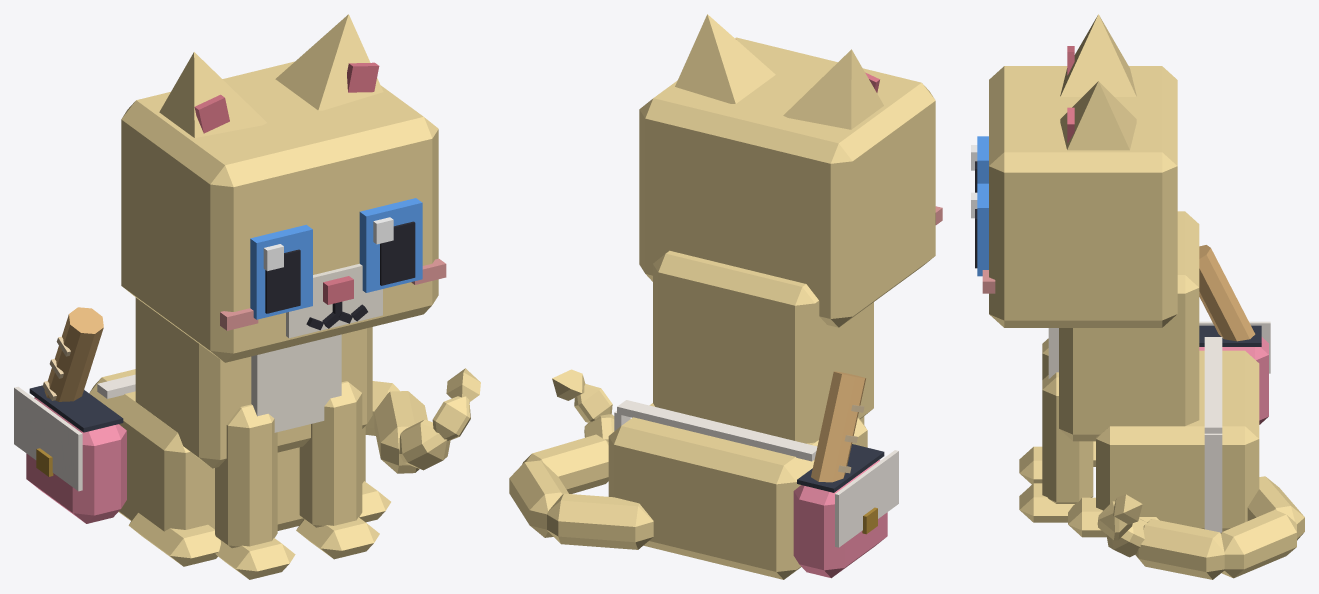
Rendered from CatCafe_Cat_Butter_Sit.fbx.
3 renders of one model, left to right at view 1: azimuth 30°, elevation 25°; view 2: azimuth 150°, elevation 25°; view 3: azimuth 270°, elevation 25°, orthographic. The views are drawn at different scales.
Visible parts, largest first — view 1: CatCafe_Cat_Butter_Sit_Head, CatCafe_Cat_Butter_Sit_Body, CatCafe_Cat_Butter_Sit_LegF2, CatCafe_Cat_Butter_Sit_LegF1, CatCafe_Cat_Butter_Sit_Tail, CatCafe_Cat_Butter_Sit_EarL, CatCafe_Cat_Butter_Sit_Eye1, CatCafe_Cat_Butter_Sit_Eye2, CatCafe_Cat_Butter_Sit_EarR; view 2: CatCafe_Cat_Butter_Sit_Body, CatCafe_Cat_Butter_Sit_Head, CatCafe_Cat_Butter_Sit_Tail, CatCafe_Cat_Butter_Sit_EarL, CatCafe_Cat_Butter_Sit_EarR; view 3: CatCafe_Cat_Butter_Sit_Head, CatCafe_Cat_Butter_Sit_Body, CatCafe_Cat_Butter_Sit_Tail, CatCafe_Cat_Butter_Sit_LegF1, CatCafe_Cat_Butter_Sit_EarL, CatCafe_Cat_Butter_Sit_EarR, CatCafe_Cat_Butter_Sit_Eye1, CatCafe_Cat_Butter_Sit_LegF2, CatCafe_Cat_Butter_Sit_Eye2.
Part boxes in pixels (box(x1,y1,x2,y2)): CatCafe_Cat_Butter_Sit_Head: box(121, 61, 446, 362); CatCafe_Cat_Butter_Sit_Body: box(14, 297, 390, 566); CatCafe_Cat_Butter_Sit_LegF2: box(215, 404, 295, 579); CatCafe_Cat_Butter_Sit_LegF1: box(296, 381, 379, 559); CatCafe_Cat_Butter_Sit_Tail: box(365, 368, 480, 473); CatCafe_Cat_Butter_Sit_EarL: box(275, 14, 383, 110); CatCafe_Cat_Butter_Sit_Eye1: box(359, 198, 422, 292); CatCafe_Cat_Butter_Sit_Eye2: box(250, 224, 312, 319); CatCafe_Cat_Butter_Sit_EarR: box(159, 52, 266, 137); CatCafe_Cat_Butter_Sit_Body: box(608, 250, 898, 579); CatCafe_Cat_Butter_Sit_Head: box(639, 37, 942, 327); CatCafe_Cat_Butter_Sit_Tail: box(509, 369, 653, 549); CatCafe_Cat_Butter_Sit_EarL: box(675, 14, 775, 103); CatCafe_Cat_Butter_Sit_EarR: box(783, 49, 883, 129); CatCafe_Cat_Butter_Sit_Head: box(982, 66, 1177, 327); CatCafe_Cat_Butter_Sit_Body: box(1048, 211, 1270, 537); CatCafe_Cat_Butter_Sit_Tail: box(1097, 476, 1304, 579); CatCafe_Cat_Butter_Sit_LegF1: box(1019, 372, 1093, 522); CatCafe_Cat_Butter_Sit_EarL: box(1060, 81, 1136, 150); CatCafe_Cat_Butter_Sit_EarR: box(1060, 14, 1136, 96); CatCafe_Cat_Butter_Sit_Eye1: box(971, 183, 988, 276); CatCafe_Cat_Butter_Sit_LegF2: box(1019, 338, 1048, 484); CatCafe_Cat_Butter_Sit_Eye2: box(971, 136, 988, 192).
Size of the model in its own units: 1.48 by 1.85 by 1.24.
Materials: 1 (1 with a texture image).
